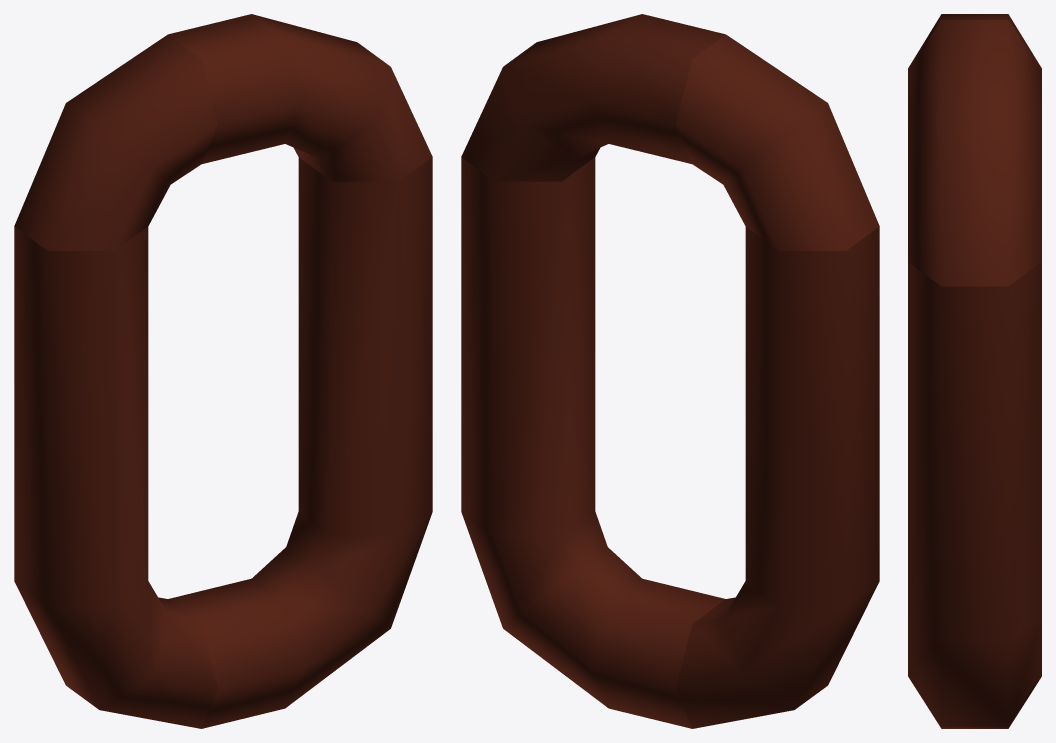
Rendered from UpgradeStation3Chain.fbx.
The picture shows the model from 3 angles, left to right: view 1: azimuth 30°, elevation 25°; view 2: azimuth 150°, elevation 25°; view 3: azimuth 270°, elevation 25°; orthographic projection.
Parts seen in each view (by area): view 1: Duplicate21.002; view 2: Duplicate21.002; view 3: Duplicate21.002.
Boxes of the visible parts, <box> form: Duplicate21.002: <box>14,14,432,728</box>; Duplicate21.002: <box>461,14,879,728</box>; Duplicate21.002: <box>908,14,1041,728</box>.
Size of the model in its own units: 0.0237 by 0.0394 by 0.00716.
